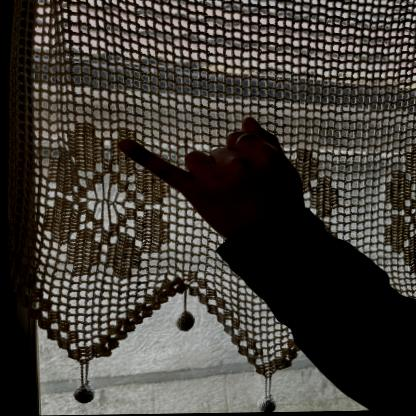J: (110, 113, 299, 235)
